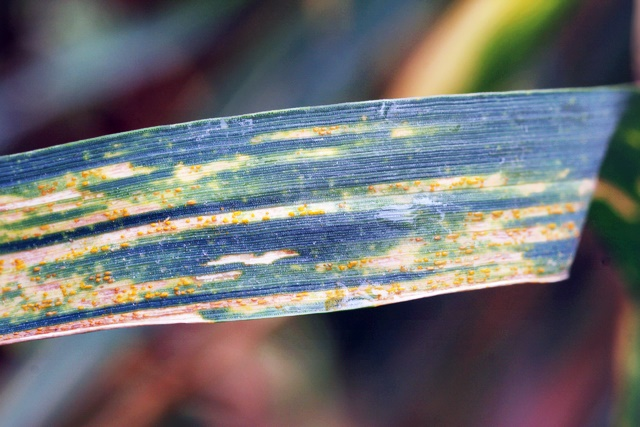Leaf Rust: (2, 148, 284, 331)
